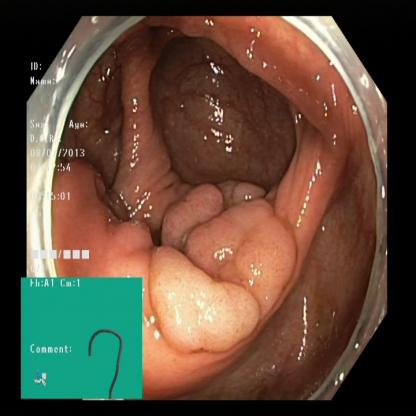Labels: (20, 278, 144, 401), (30, 57, 97, 276)
Polyps: (144, 206, 263, 338), (184, 178, 310, 282)
